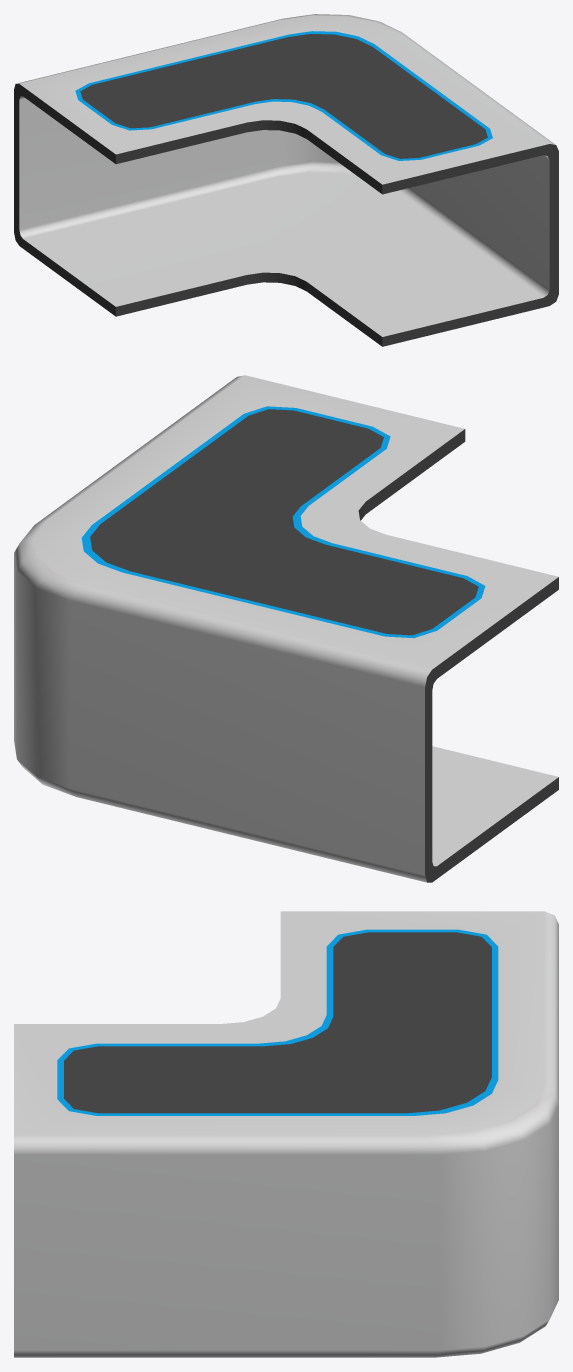
The model's file is Desk_042.glb.
The picture shows the model from 3 angles, top to bottom: view 1: azimuth 30°, elevation 25°; view 2: azimuth 150°, elevation 25°; view 3: azimuth 270°, elevation 25°; orthographic projection. The views are drawn at different scales.
Parts seen in each view (by area): view 1: Desk_042; view 2: Desk_042; view 3: Desk_042.
Part boxes in pixels (box(x1,y1,x2,y2)): Desk_042: box(14, 14, 558, 346); Desk_042: box(14, 375, 558, 882); Desk_042: box(14, 911, 558, 1357).
Size of the model in its own units: 1.94 by 0.8713 by 1.94.
2 materials, 2 textured.
